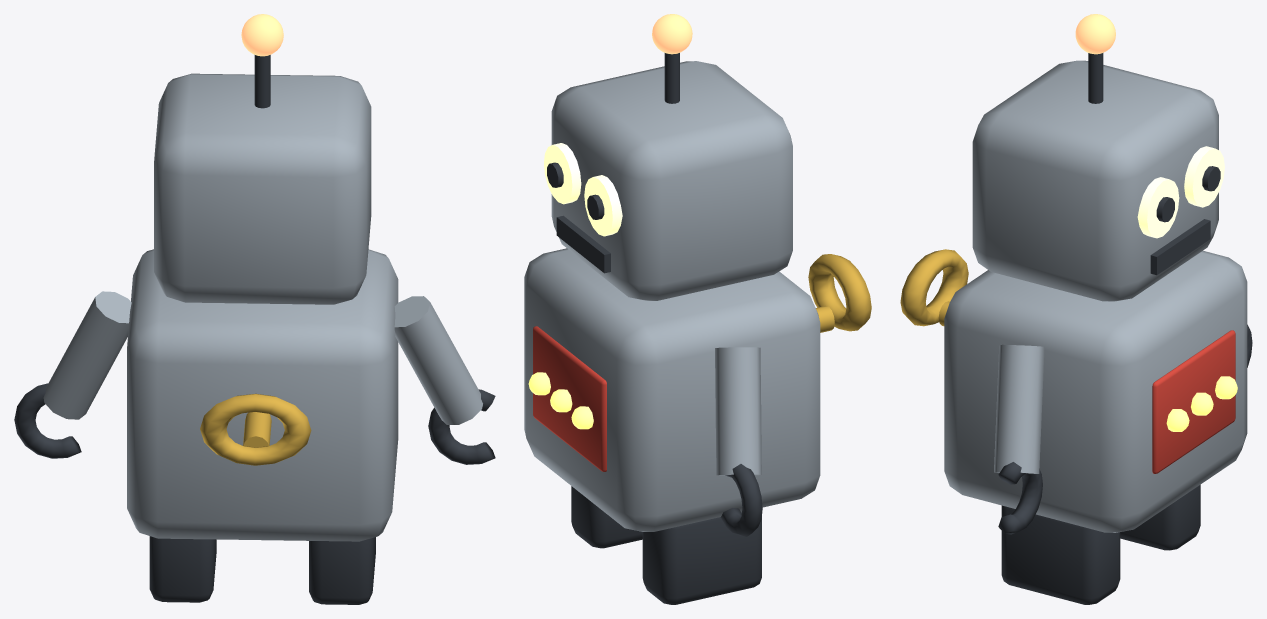
Rendered from piece_robot.fbx.
3 renders of one model, left to right at view 1: azimuth 30°, elevation 25°; view 2: azimuth 150°, elevation 25°; view 3: azimuth 270°, elevation 25°, orthographic. The views are drawn at different scales.
Parts seen in each view (by area): view 1: piece_robot; view 2: piece_robot; view 3: piece_robot.
Boxes of the visible parts, bbox=[...] form: piece_robot: bbox=[14, 14, 495, 604]; piece_robot: bbox=[524, 14, 871, 604]; piece_robot: bbox=[900, 14, 1252, 604].
Bounding box in the file's own units: 0.1548 × 0.237 × 0.1389.
